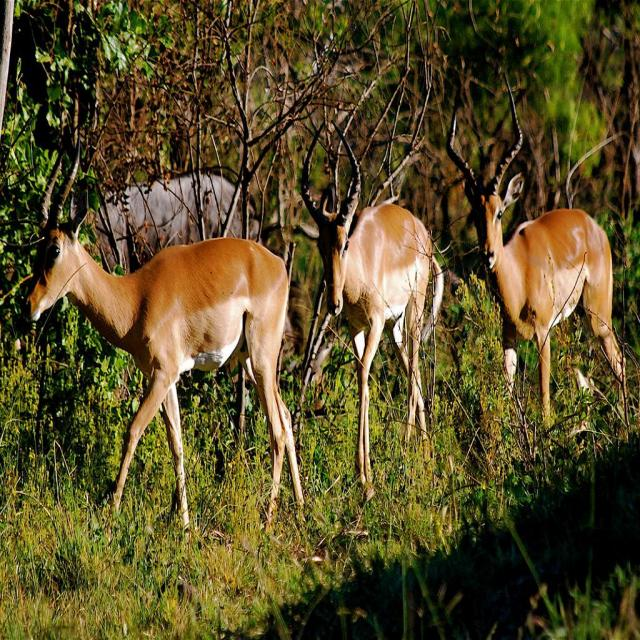Deer: (20, 208, 308, 541), (446, 71, 626, 451), (300, 118, 446, 499)
